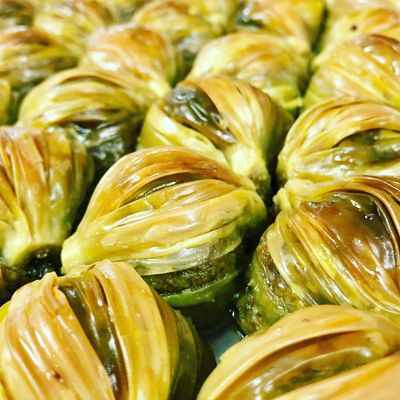sushi: (195, 304, 400, 400)
